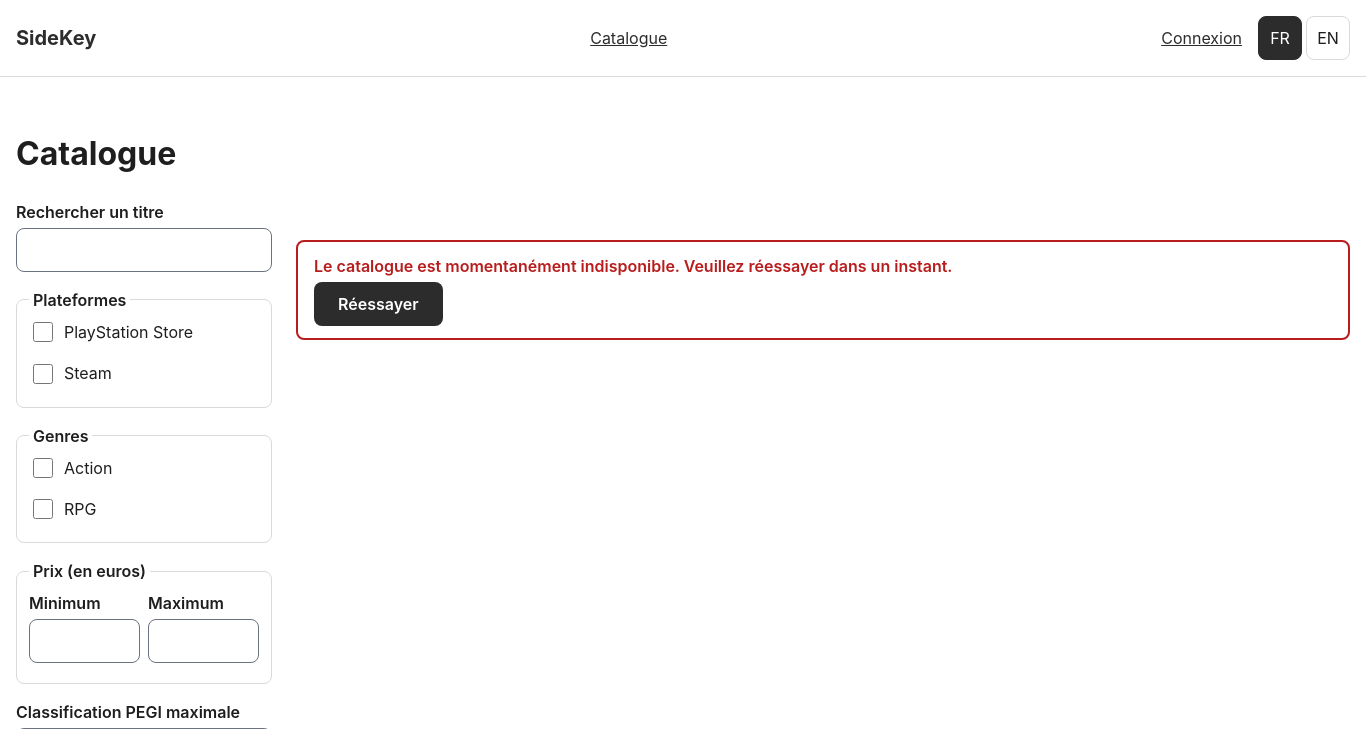
it: E02 — catalogue › affiche une erreur avec « Réessayer » quand l’API est indisponible
The image size is (1366, 729).
expect the 2nd message shows "momentanément indisponible": met, box [314, 256, 952, 276]
Click the button "Réessayer" at (378, 304), box [314, 282, 443, 326]
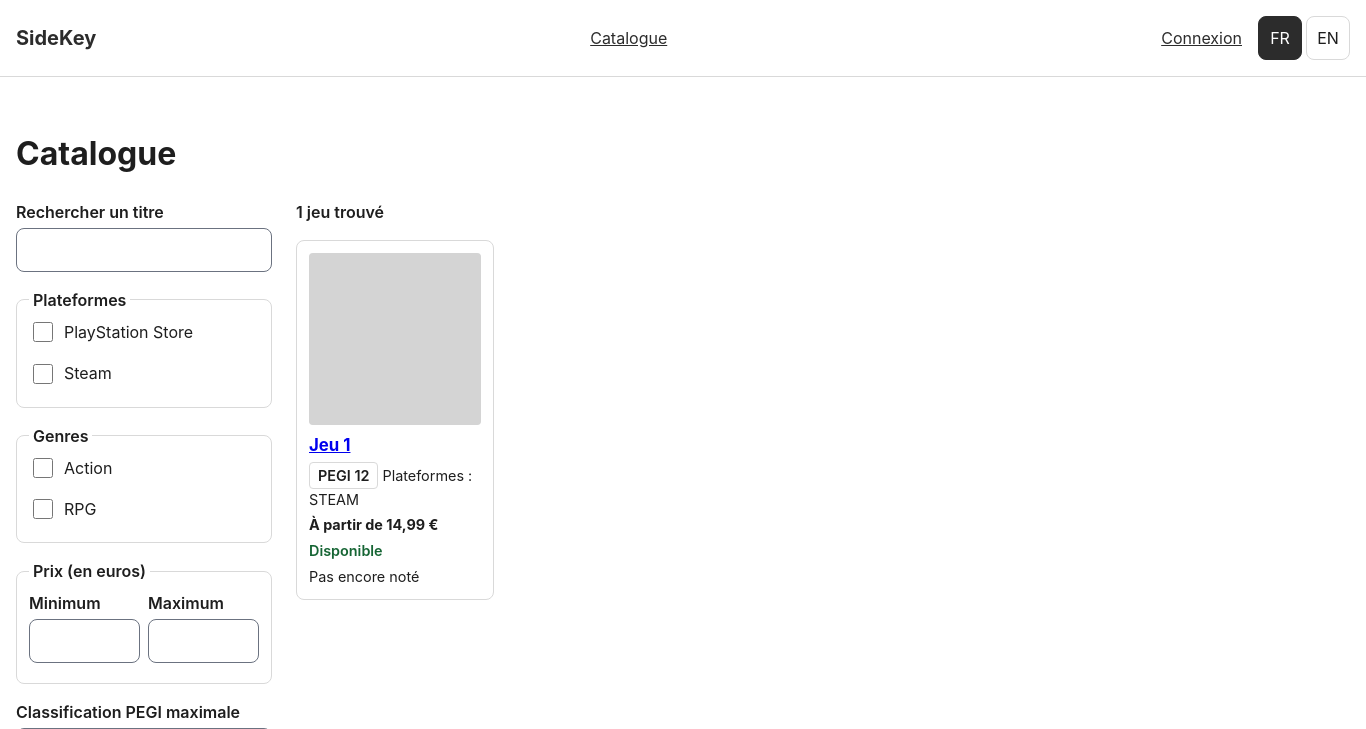
expect the text "1 jeu trouvé" is shown: met, box [296, 202, 384, 222]
